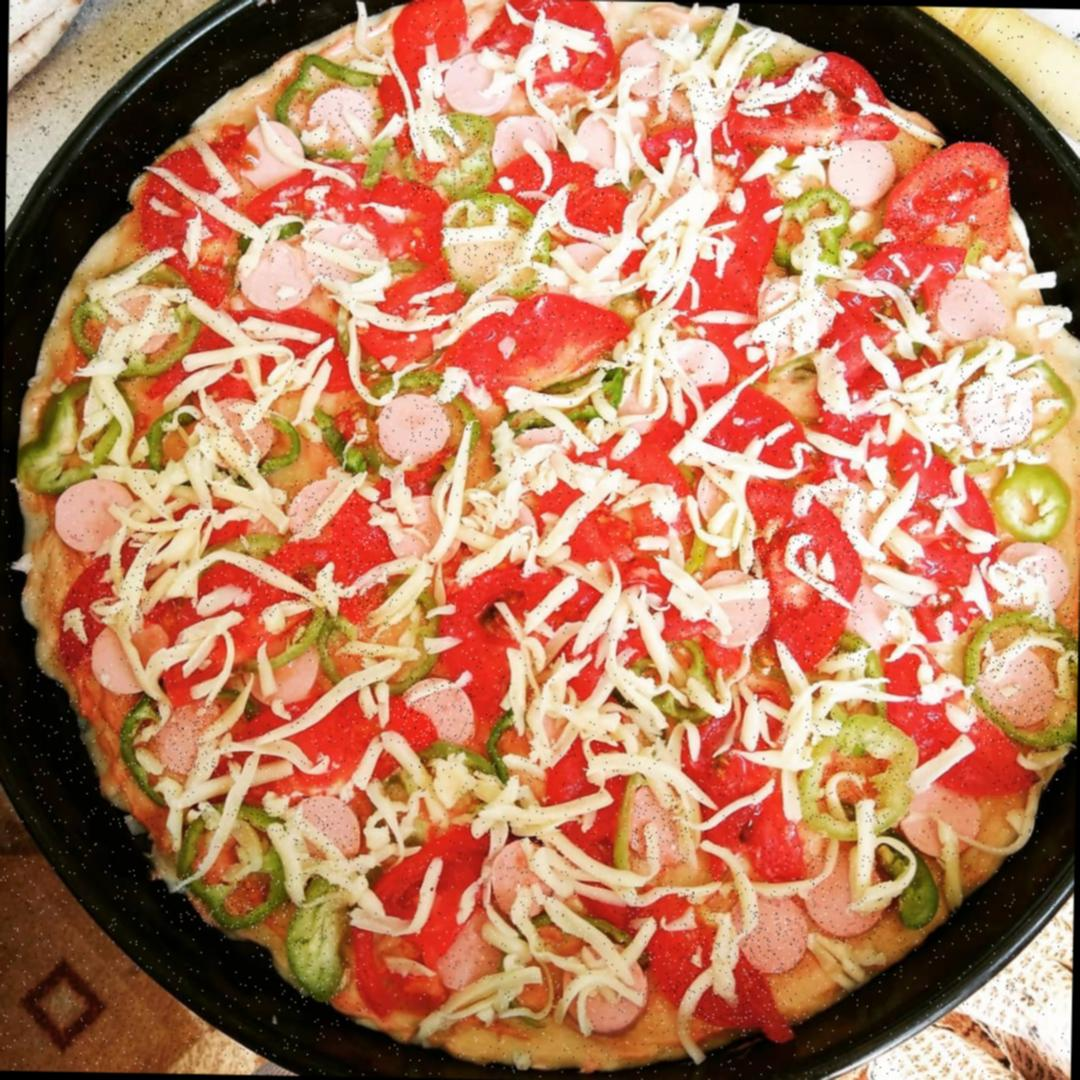Ham: (563, 945, 647, 1034), (804, 854, 885, 938), (56, 479, 139, 555), (730, 898, 808, 974), (982, 652, 1057, 730), (994, 542, 1070, 618), (958, 375, 1034, 450), (758, 276, 832, 352), (903, 785, 982, 856), (200, 397, 276, 468), (442, 907, 504, 994), (92, 625, 167, 696), (492, 839, 557, 920), (630, 785, 694, 866), (241, 640, 318, 707), (401, 677, 474, 747), (305, 88, 378, 156), (290, 796, 360, 866), (829, 141, 900, 210), (574, 108, 648, 174), (154, 705, 222, 776), (548, 243, 619, 310), (938, 280, 1010, 346), (379, 394, 450, 460), (306, 226, 382, 286), (242, 240, 307, 309), (444, 52, 512, 116), (109, 290, 174, 354), (243, 121, 305, 188), (490, 117, 558, 172), (290, 480, 359, 534), (620, 38, 680, 100), (656, 337, 730, 387), (668, 88, 732, 127)
Peppers: (357, 816, 488, 1027), (620, 888, 798, 1038), (878, 644, 1028, 800), (745, 482, 865, 662), (440, 294, 626, 398), (242, 532, 391, 660), (132, 142, 244, 302), (732, 67, 914, 154), (880, 142, 1014, 253), (967, 616, 1078, 750), (50, 546, 153, 690), (797, 718, 912, 834), (500, 158, 635, 254), (440, 195, 550, 295), (503, 364, 628, 431), (288, 874, 351, 1006), (18, 376, 88, 493), (628, 640, 716, 722), (402, 115, 491, 196), (772, 190, 850, 272), (995, 464, 1072, 541), (184, 880, 290, 931), (1032, 348, 1076, 453), (119, 695, 155, 804), (306, 51, 388, 88), (421, 740, 498, 777), (207, 804, 290, 836), (450, 396, 483, 473), (273, 50, 307, 122), (178, 804, 207, 880), (73, 302, 110, 358), (490, 716, 518, 784), (121, 354, 178, 382), (370, 372, 440, 394)
Pizza: (0, 0, 1080, 1080)
